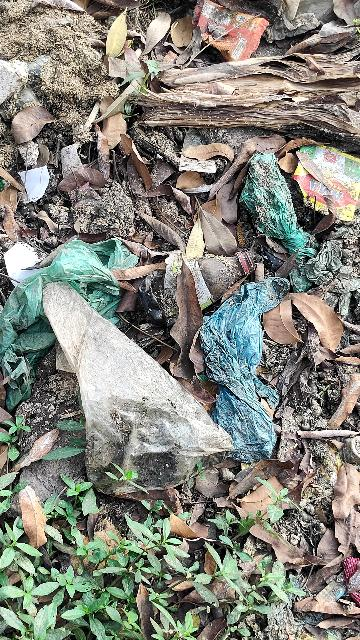bottle: (133, 255, 269, 317)
